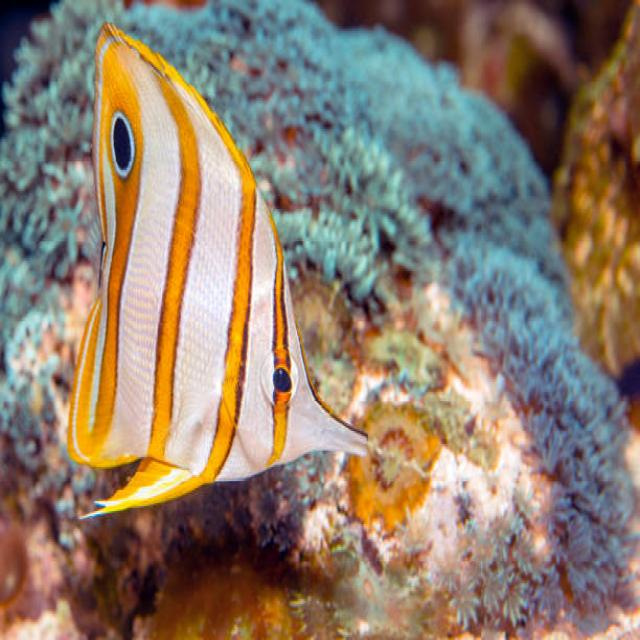ButterflyFish: (66, 23, 370, 520)
